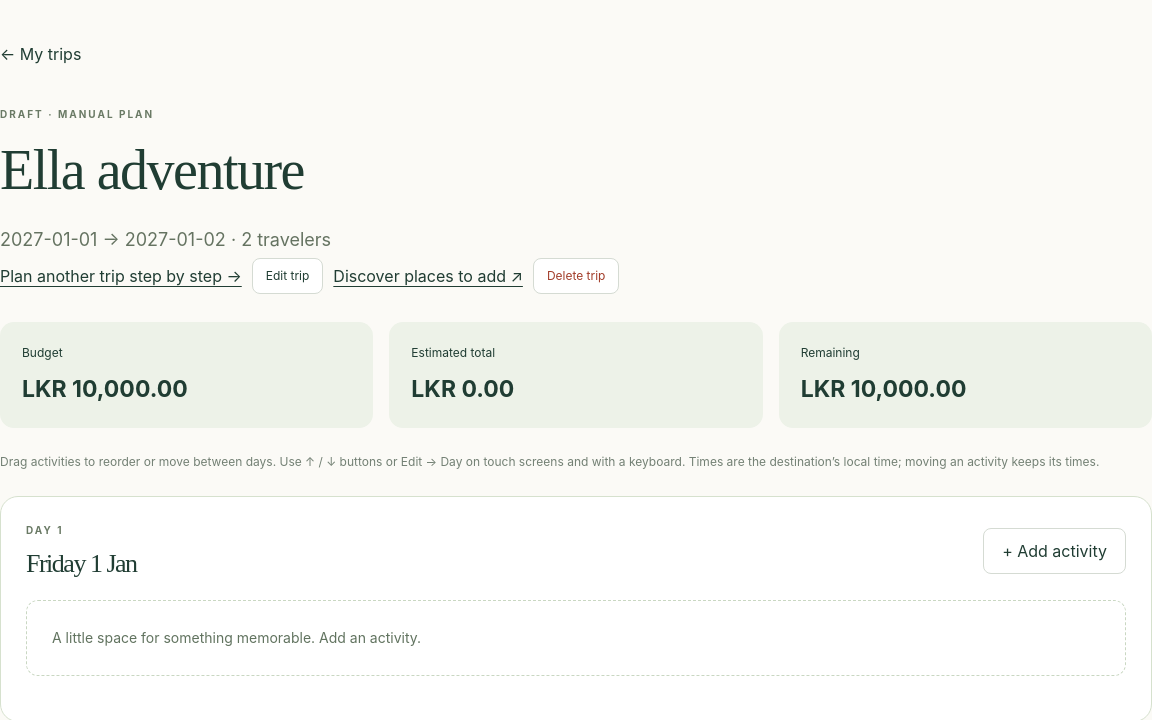
Test: manual trip scheduler › keeps unsaved input and the existing schedule when the backend rejects an overlap
The image size is (1152, 720).
Expected: the heading "Ella adventure" is shown, [0,139,304,201]
Click the button "+ Add activity": coordinates (1055, 551) [983,528,1126,574]
(page scrolled)
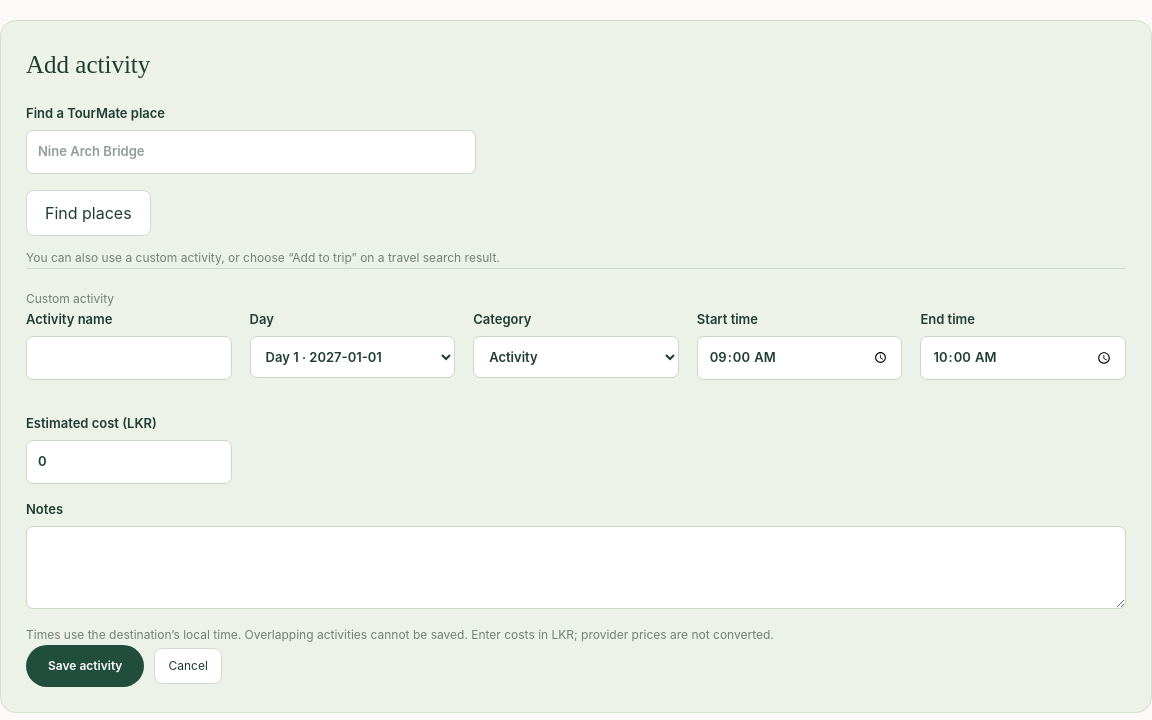
In the field labelled "Activity name": coordinates (129, 358) [26,336,232,380], type "Cafe"
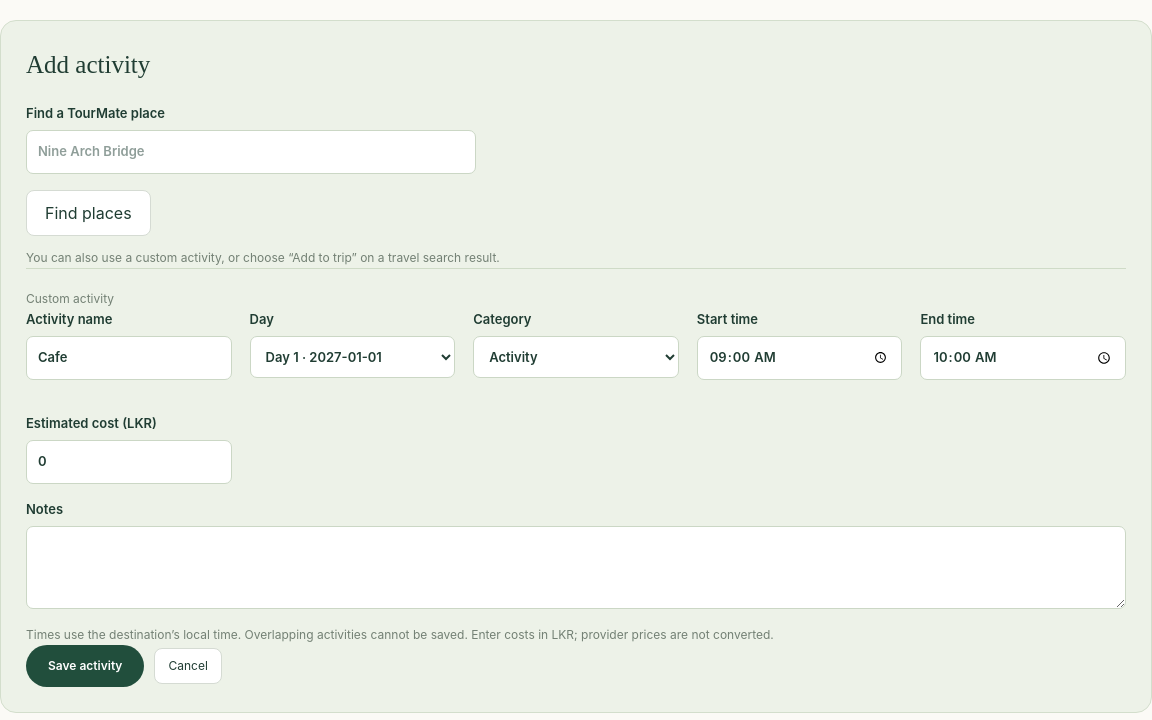
Click the button "Save activity": coordinates (85, 666) [26,645,144,687]
(page scrolled)
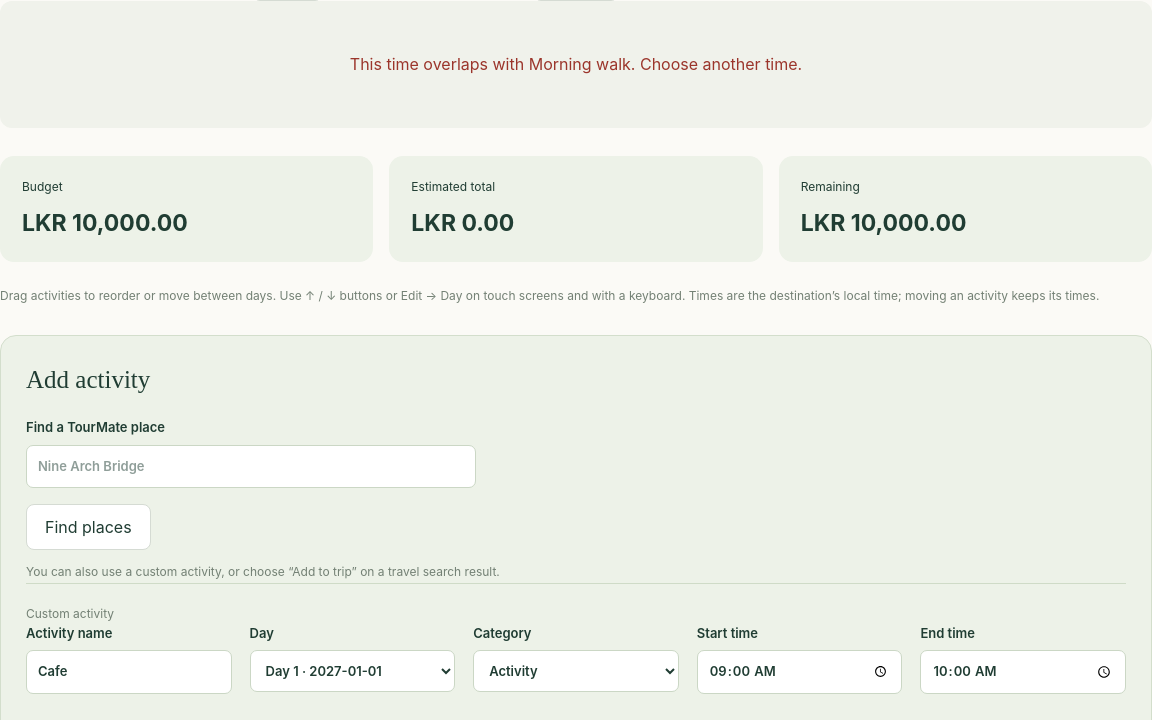
Now the message "This time overlaps with Morning walk. Choose another time." is shown, box [0,0,1151,128]
